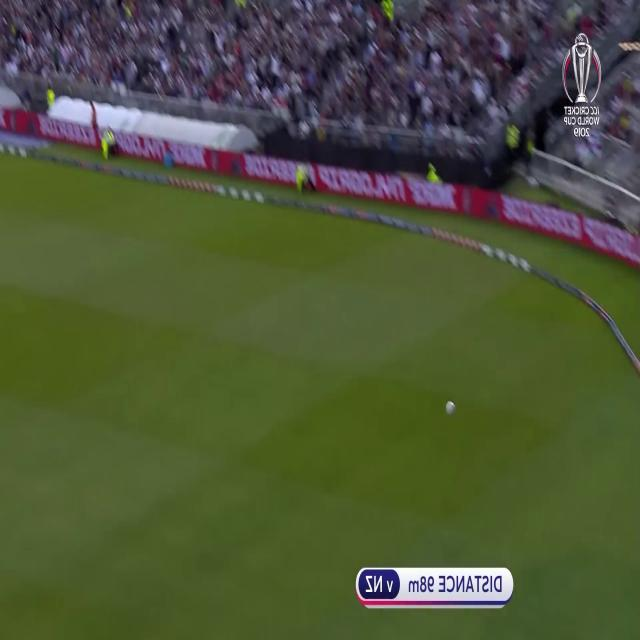ball: (444, 398, 456, 416)
